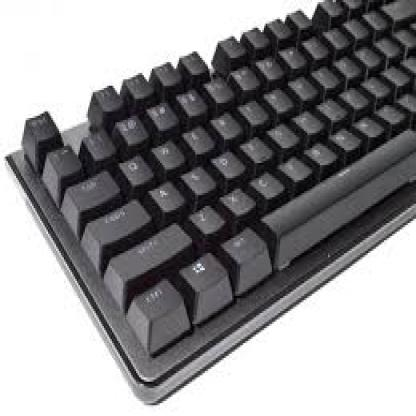keyboard: (13, 151, 373, 256)
